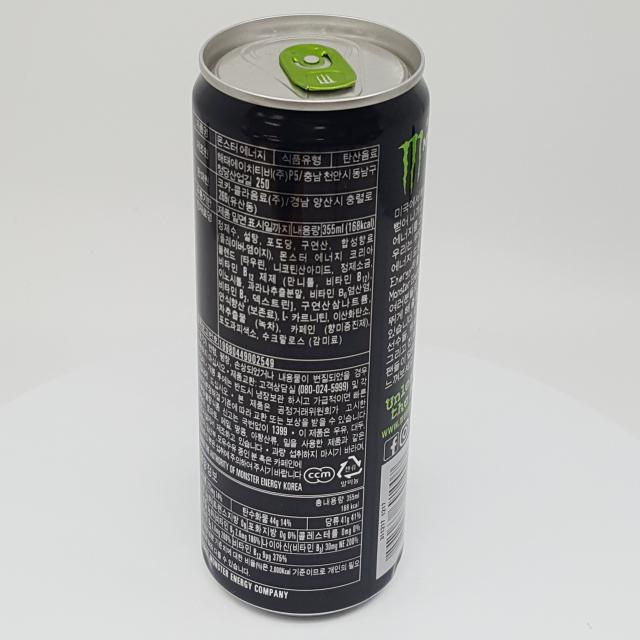--------355ML: (191, 13, 430, 616)
